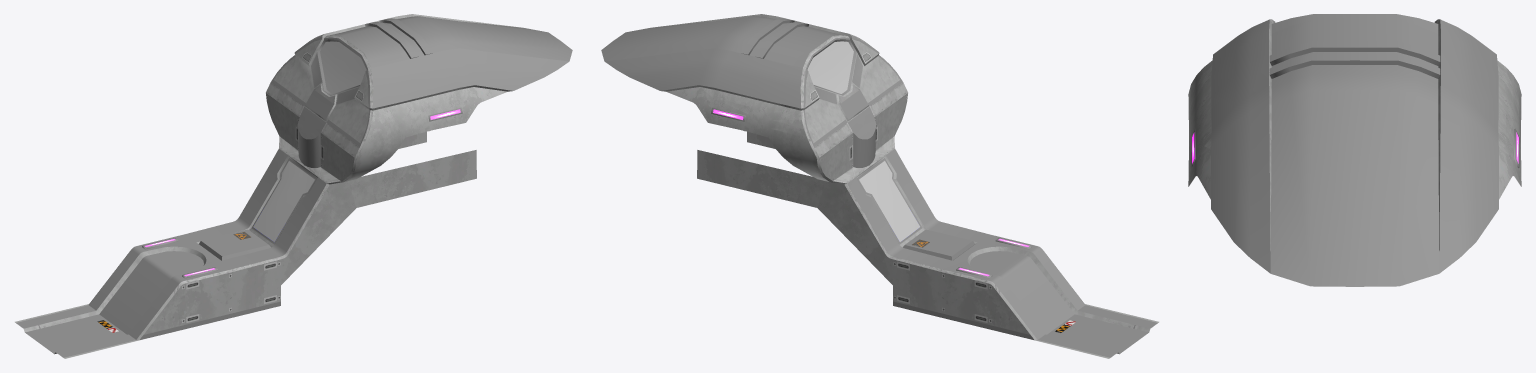
Rendered from Shuttle_Interior_Cockpit_Mid.FBX.
The picture shows the model from 3 angles, left to right: view 1: azimuth 30°, elevation 25°; view 2: azimuth 150°, elevation 25°; view 3: azimuth 270°, elevation 25°; orthographic projection. The views are drawn at different scales.
Parts seen in each view (by area): view 1: Shuttle_Interior_Cockpit_Mid; view 2: Shuttle_Interior_Cockpit_Mid; view 3: Shuttle_Interior_Cockpit_Mid.
Boxes of the visible parts, x1,y1,x2,y2 form: Shuttle_Interior_Cockpit_Mid: [15, 14, 572, 358]; Shuttle_Interior_Cockpit_Mid: [601, 14, 1158, 358]; Shuttle_Interior_Cockpit_Mid: [1188, 14, 1521, 286].
Bounding box in the file's own units: 3.34 × 1.38 × 1.01.
